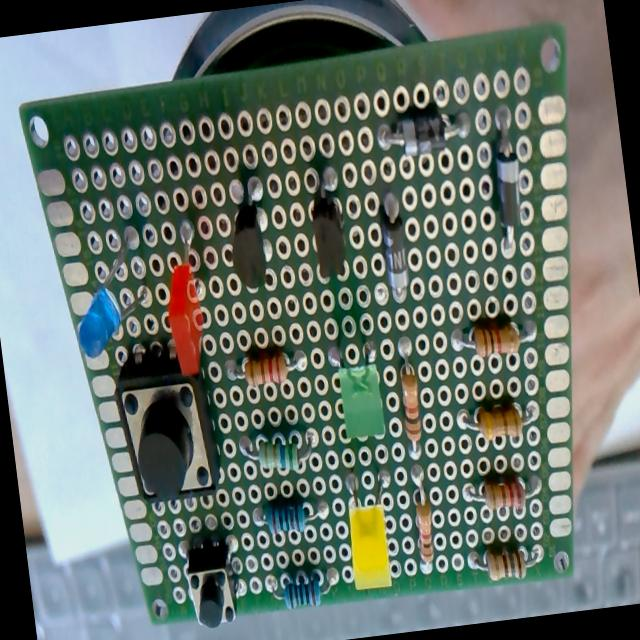diode: (486, 108, 528, 253), (376, 106, 470, 159), (377, 200, 412, 302)
led: (64, 226, 154, 358), (156, 218, 214, 378), (339, 466, 399, 592), (324, 331, 388, 444)
resistor: (457, 396, 538, 446), (238, 426, 318, 476), (449, 316, 536, 360), (394, 336, 426, 455), (268, 564, 340, 612), (228, 345, 308, 388), (408, 462, 439, 570), (468, 541, 544, 585), (250, 494, 324, 536), (474, 472, 528, 514)
switch: (110, 336, 223, 506), (183, 538, 241, 632)
transistor: (222, 174, 276, 290), (304, 164, 352, 282)
